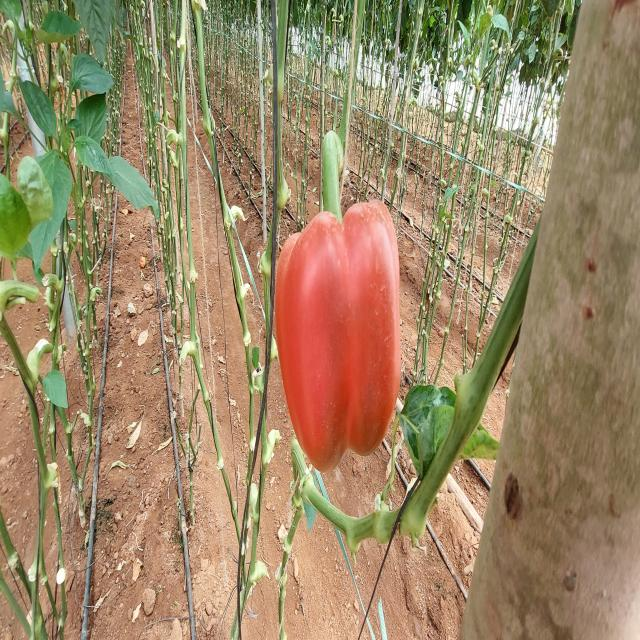Red-Ready-to-Harvest: (281, 215, 405, 473)
